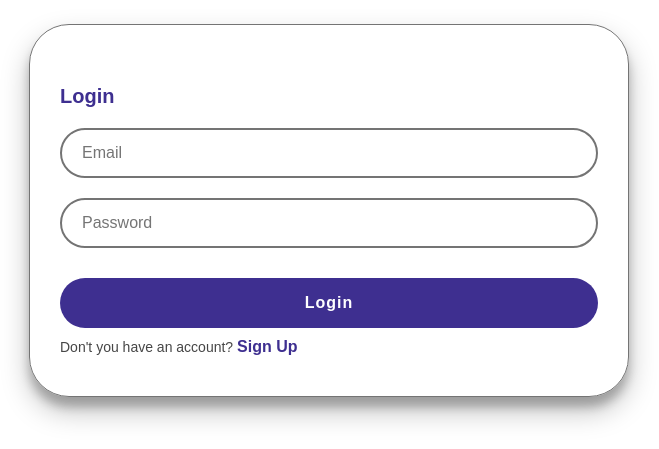
Test: shows error when user enters invalid credentials
Type "fail@gmail.com" into the field with test id "email" at (329, 153), box [60, 128, 598, 178]
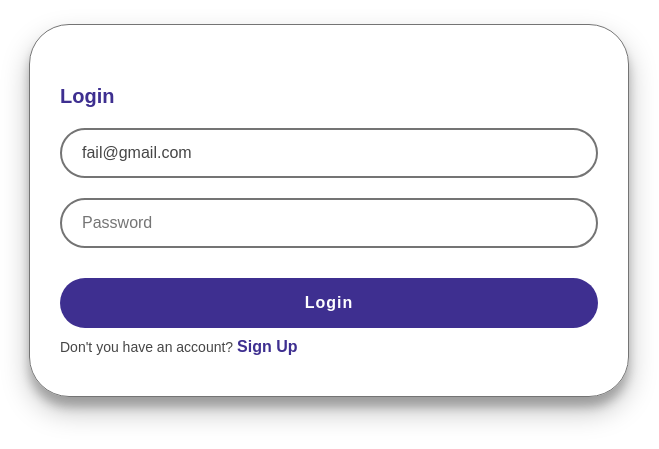
Type "Fail123" into the password field with test id "password" at (329, 223), box [60, 198, 598, 248]
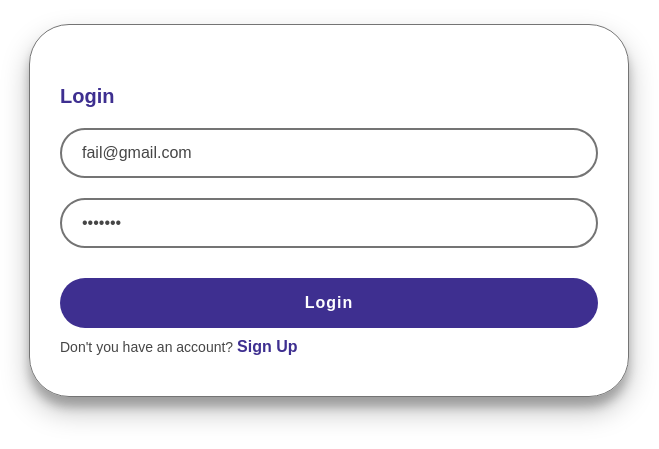
Click the button with test id "loginButton" at (329, 303), box [60, 278, 598, 328]
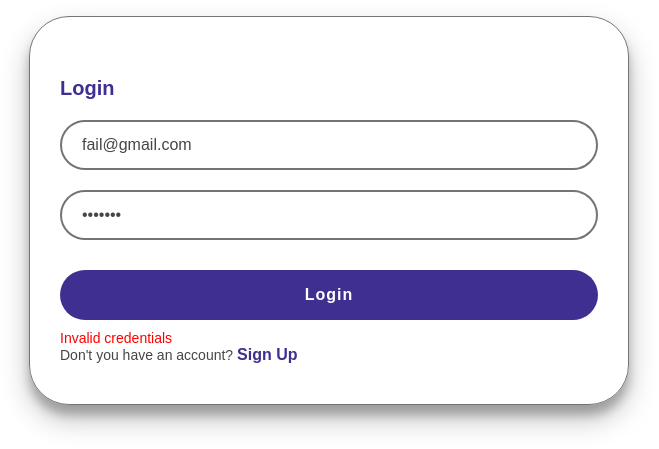
Check: the text "Invalid credentials" is shown, box [60, 330, 172, 346]
